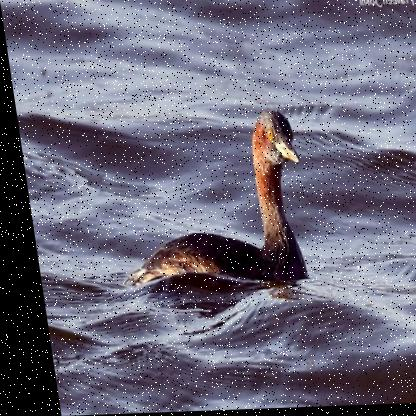Burung: (98, 111, 309, 289)
